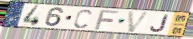4: (21, 4, 41, 28)
6: (44, 7, 64, 27)
C: (73, 8, 93, 29)
F: (94, 9, 121, 31)
J: (149, 14, 170, 33)
V: (126, 10, 152, 33)
